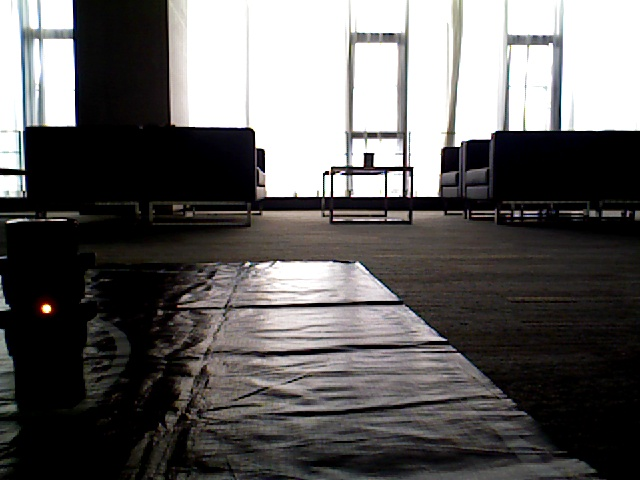yellow: (10, 223, 75, 391)
